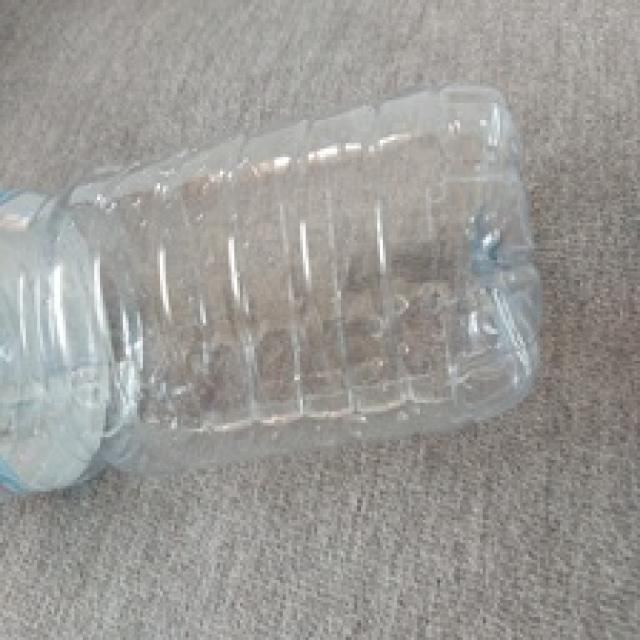Plastic: (0, 82, 539, 496)
